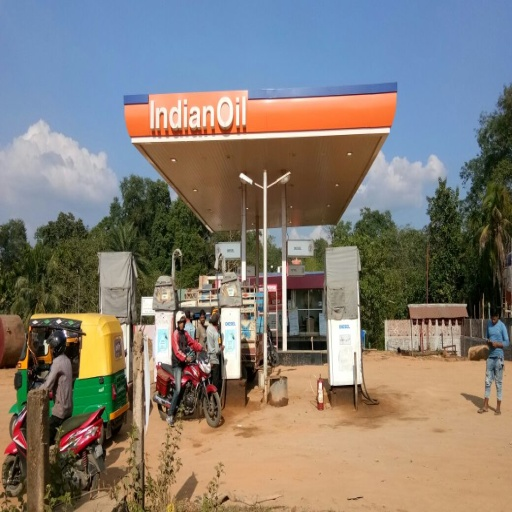roof: (122, 89, 419, 232)
